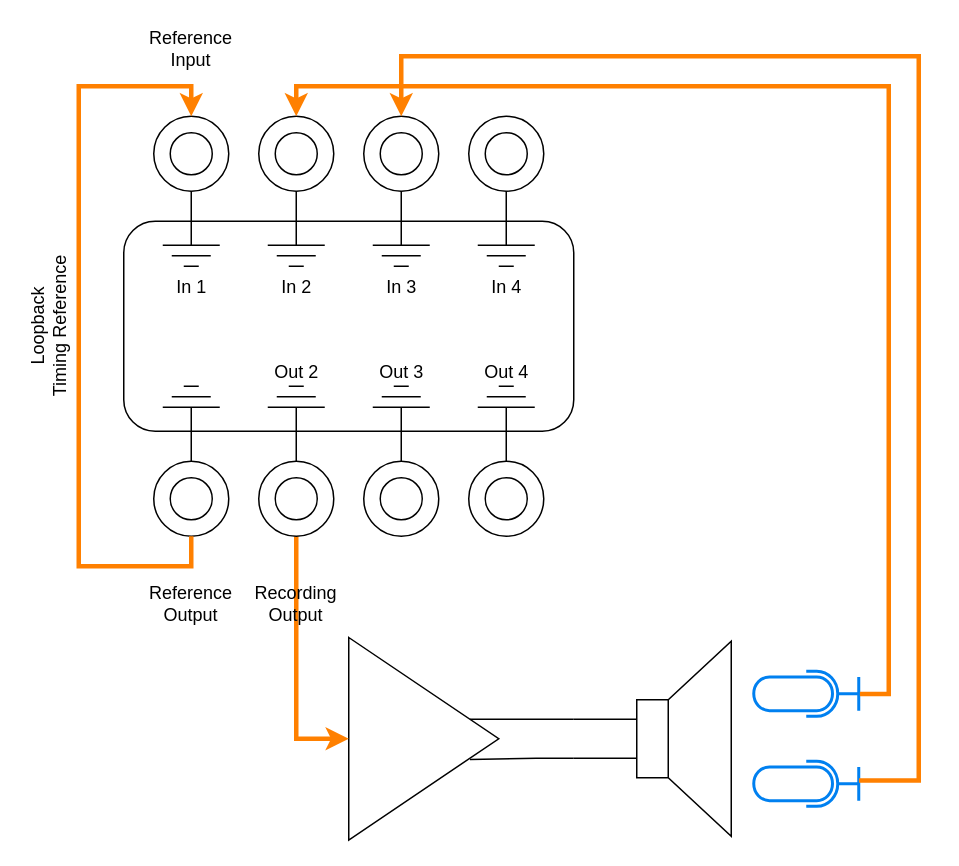
Some shapes in this 959 by 866 pixel diagram are drawn without their labels. Each missing label, with the centre of its shape:
"Amplifier" belongs at pixel 423 738.
"Audio Interface 4x4" belongs at pixel 348 325.
"Out 1" belongs at pixel 190 460.
